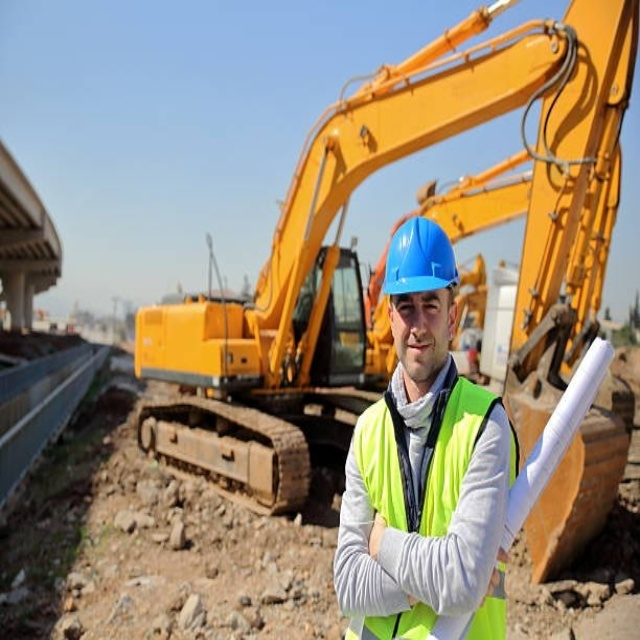Sin_gafas: (394, 290, 448, 320)
Sin_mascara: (399, 333, 438, 365)
